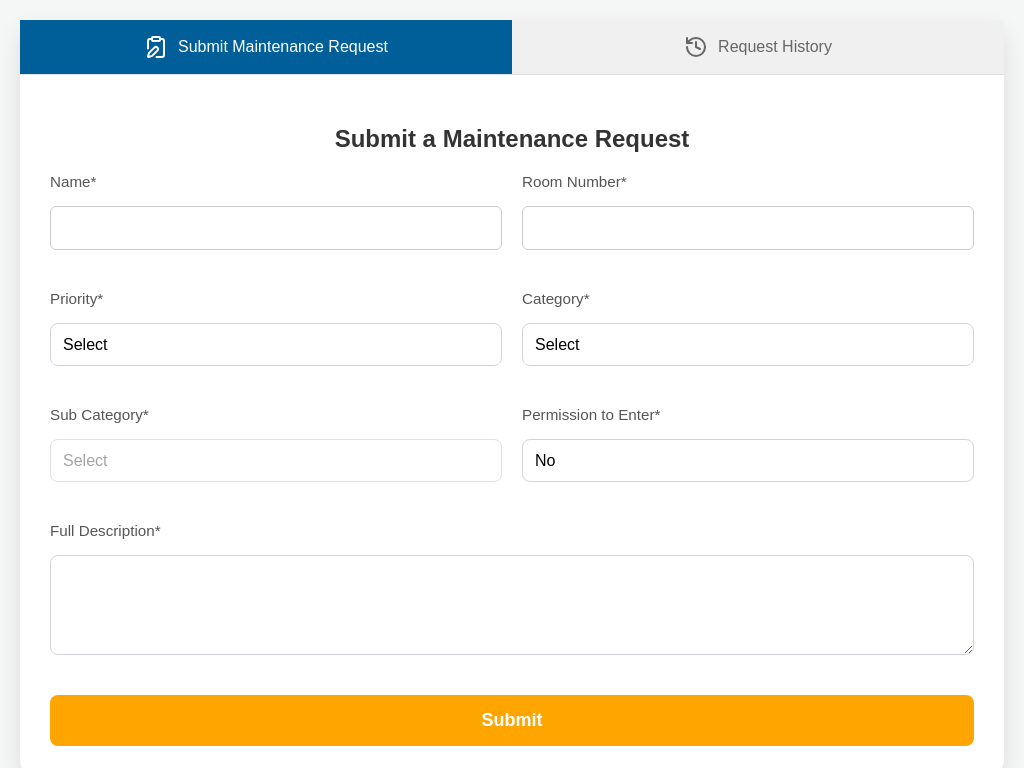
Test case: Maintenance Component › enables subcategory when category is selected
Select "Plumbing" in the 2nd dropdown: x=748, y=344 [522,323,974,366]
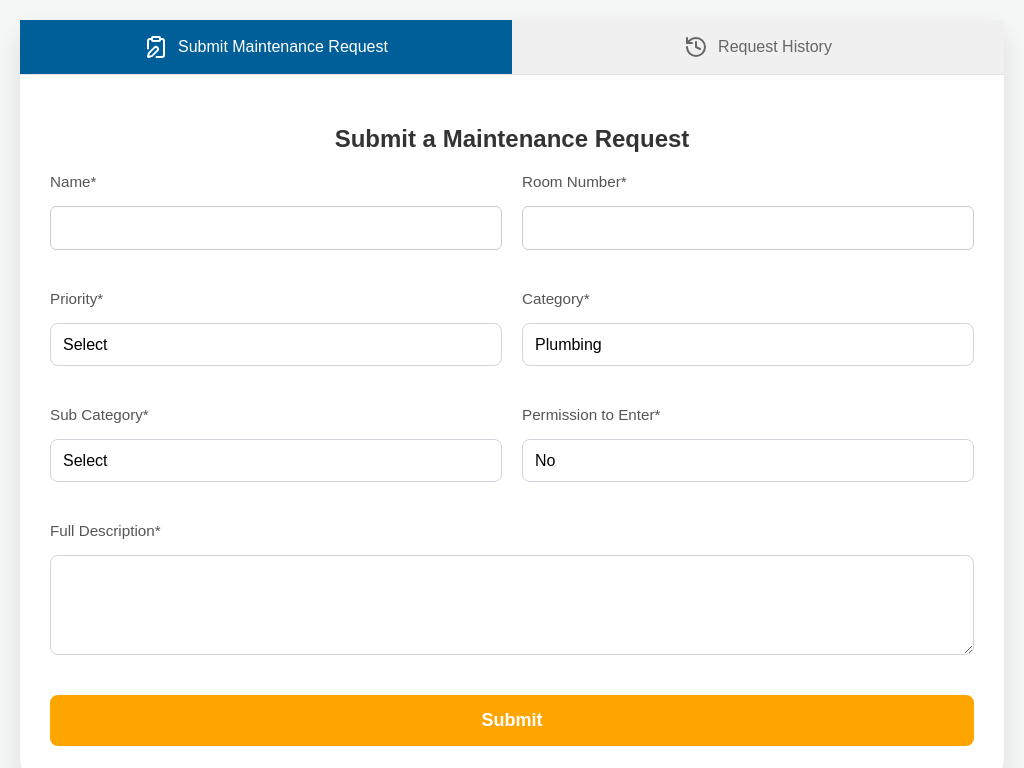
Expected: the dropdown below "Sub Category*" is enabled, [50,439,502,482]
